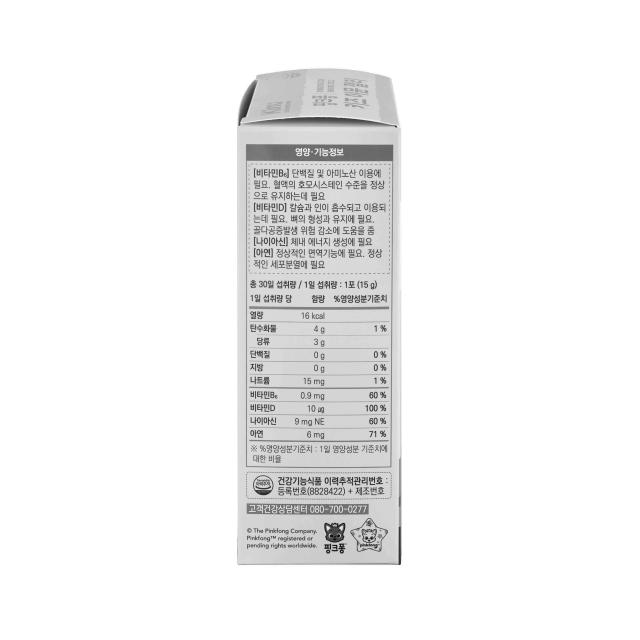Nutrition Label: (242, 292, 398, 467)
